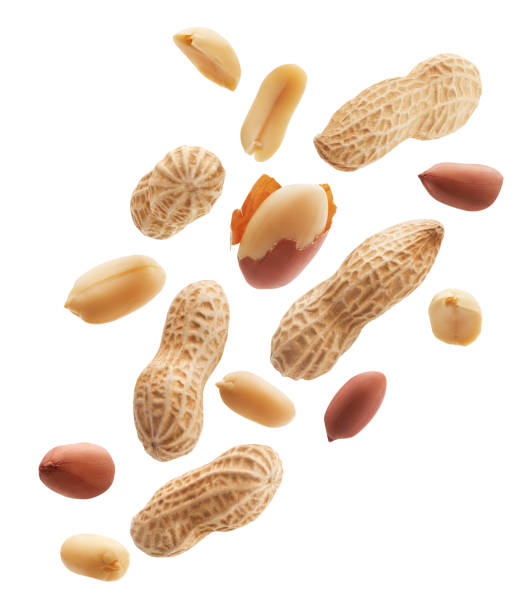kacang1: (130, 148, 232, 237)
kacang2: (256, 208, 448, 385), (303, 47, 493, 182), (105, 441, 309, 558), (126, 258, 230, 473)
